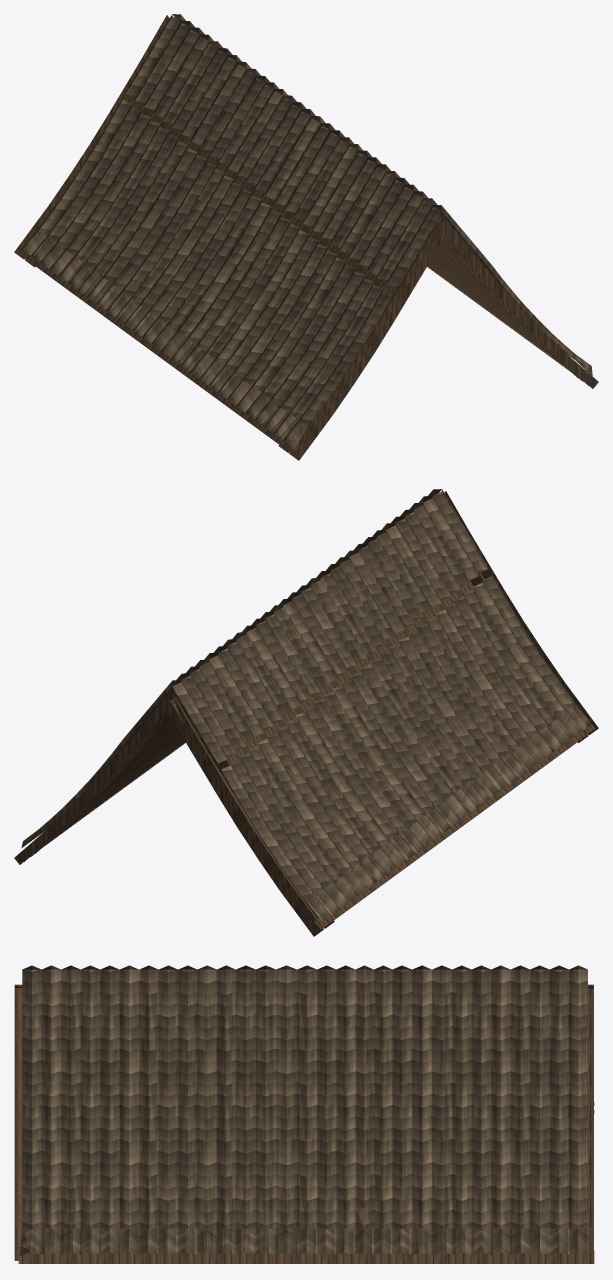
The model's file is Roof_Shingle_8x14.gltf.
3 renders of one model, top to bottom at view 1: azimuth 30°, elevation 25°; view 2: azimuth 150°, elevation 25°; view 3: azimuth 270°, elevation 25°, orthographic. The views are drawn at different scales.
Visible parts, largest first — view 1: Roof_Shingle_8x14; view 2: Roof_Shingle_8x14; view 3: Roof_Shingle_8x14.
Part boxes in pixels (box(x1,y1,x2,y2)): Roof_Shingle_8x14: box(14, 14, 598, 460); Roof_Shingle_8x14: box(14, 489, 598, 936); Roof_Shingle_8x14: box(14, 965, 594, 1263).
Bounding box in the file's own units: 9.95 × 6.58 × 15.66.
Materials: 2 (2 with a texture image).
